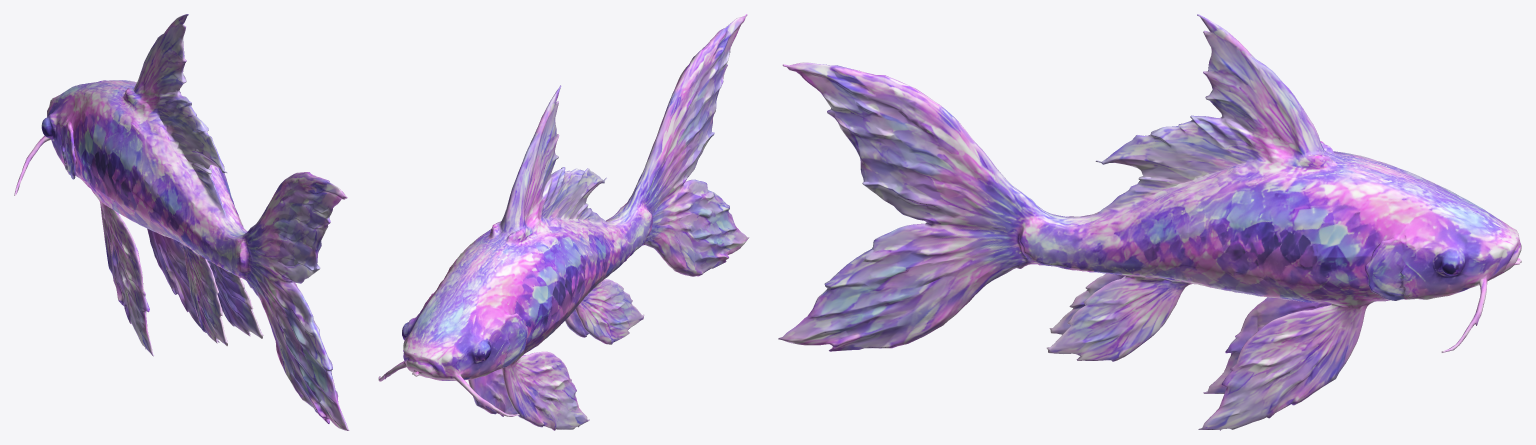
File: fish.glb
3 views of the same model, side by side, from view 1: azimuth 30°, elevation 25°; view 2: azimuth 150°, elevation 25°; view 3: azimuth 270°, elevation 25° (orthographic). The views are drawn at different scales.
Visible parts, largest first — view 1: tripo_node_4d6ac131-9011-4f6f-81eb-889fec7bfa05; view 2: tripo_node_4d6ac131-9011-4f6f-81eb-889fec7bfa05; view 3: tripo_node_4d6ac131-9011-4f6f-81eb-889fec7bfa05.
Part boxes in pixels (bbox=[...]): tripo_node_4d6ac131-9011-4f6f-81eb-889fec7bfa05: bbox=[14, 14, 349, 430]; tripo_node_4d6ac131-9011-4f6f-81eb-889fec7bfa05: bbox=[378, 14, 749, 430]; tripo_node_4d6ac131-9011-4f6f-81eb-889fec7bfa05: bbox=[778, 14, 1521, 430].
Bounding box in the file's own units: 0.2744 × 0.5895 × 0.9985.
1 material, 1 textured.
